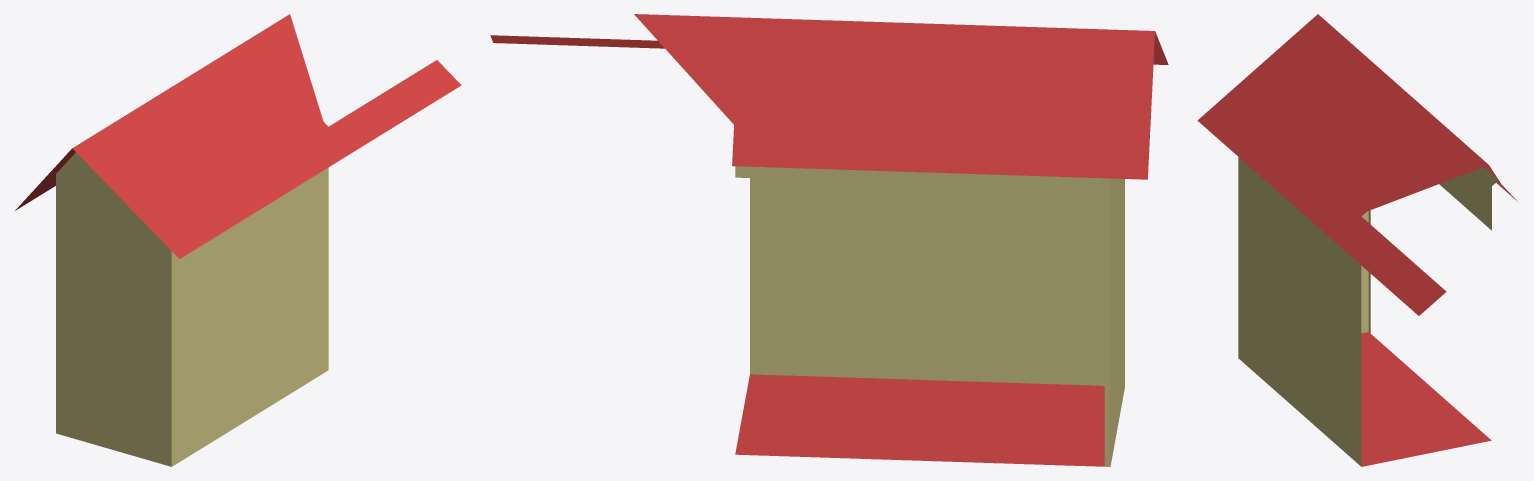
3 views of the same model, side by side, from view 1: azimuth 30°, elevation 25°; view 2: azimuth 150°, elevation 25°; view 3: azimuth 270°, elevation 25° (orthographic). The views are drawn at different scales.
Size of the model in its own units: 13.45 by 7.85 by 8.44.
